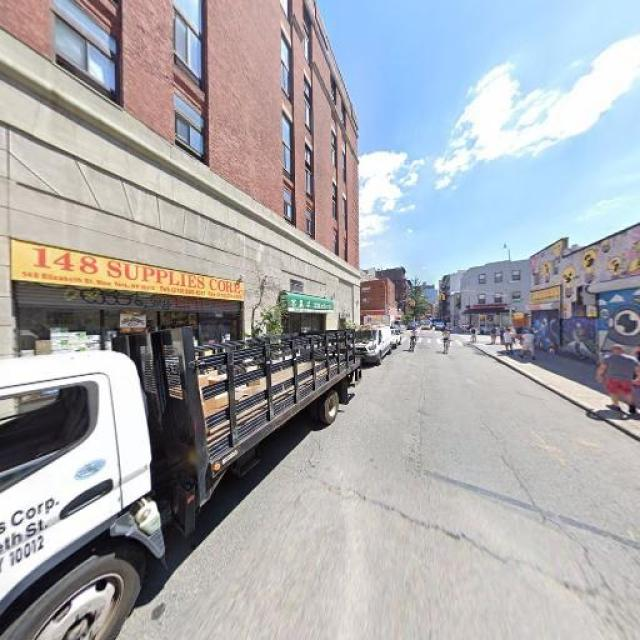Building: (1, 1, 357, 424), (534, 227, 640, 379)
